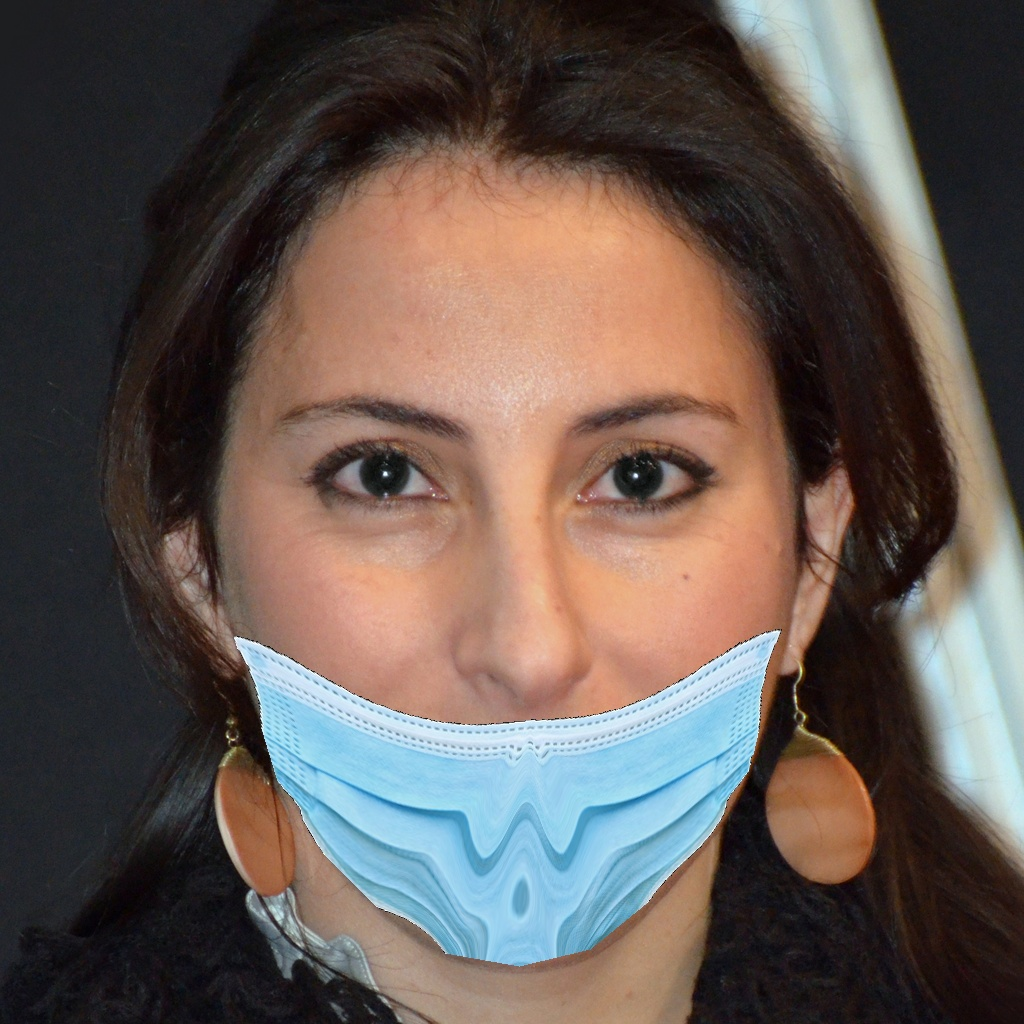mascarilla_mal_puesta: (207, 350, 859, 975)
